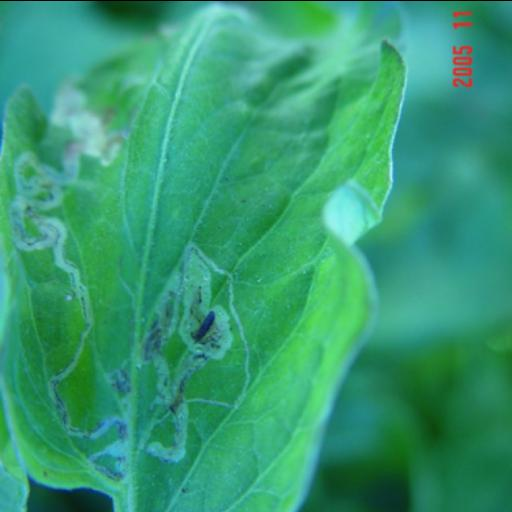disease_tomato: (0, 0, 408, 512)
